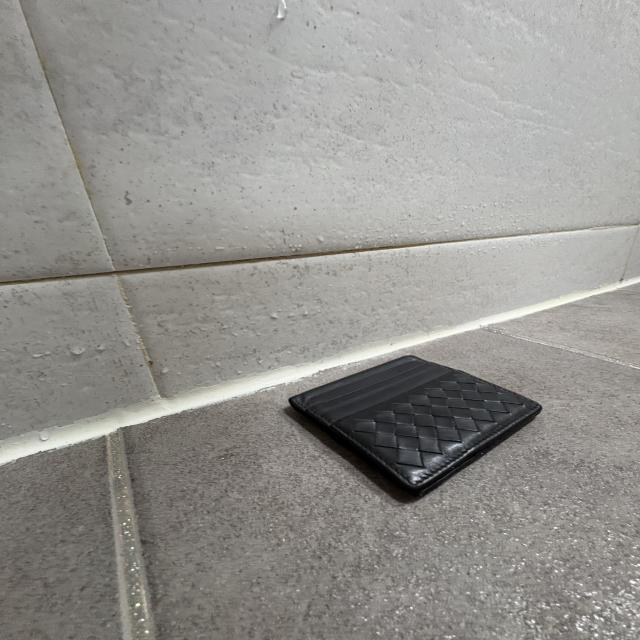wallet: (286, 351, 544, 501)
